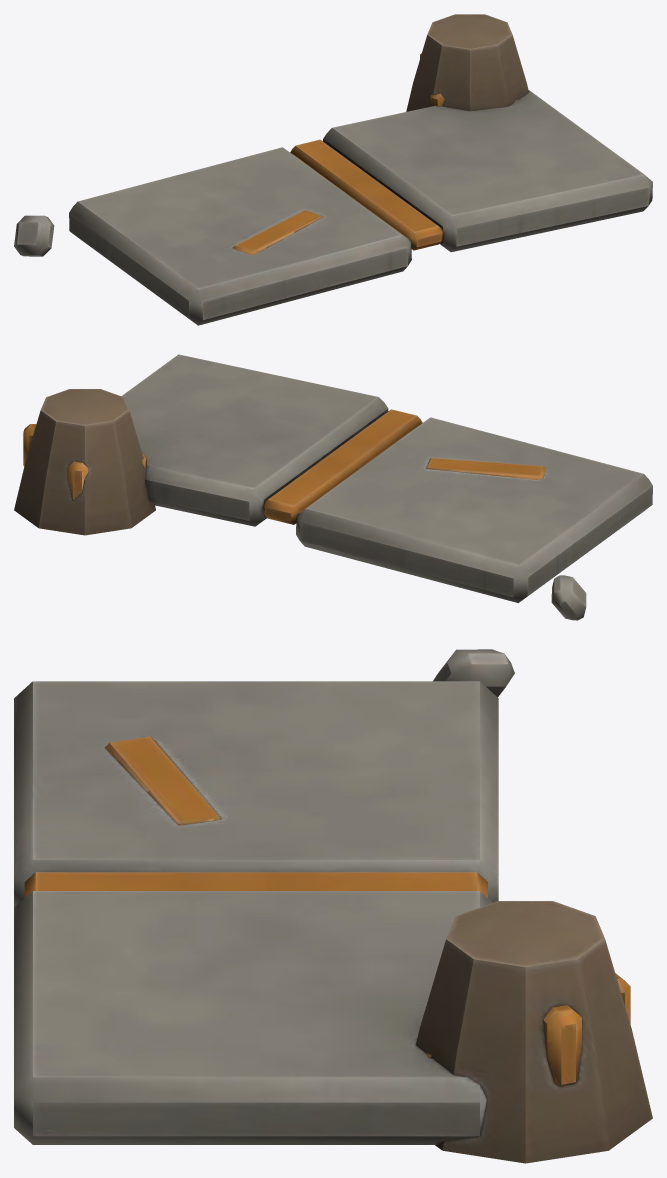
The model's file is camp_resinback.glb.
3 views of the same model, one above another, from view 1: azimuth 30°, elevation 25°; view 2: azimuth 150°, elevation 25°; view 3: azimuth 270°, elevation 25° (orthographic). The views are drawn at different scales.
Parts seen in each view (by area): view 1: camp_resinback_body; view 2: camp_resinback_body; view 3: camp_resinback_body.
Boxes of the visible parts, x1=… form: camp_resinback_body: x1=14, y1=14, x2=652, y2=325; camp_resinback_body: x1=14, y1=354, x2=652, y2=620; camp_resinback_body: x1=14, y1=649, x2=652, y2=1163.
Bounding box in the file's own units: 2.11 × 0.4135 × 1.19.
Materials: 1 (1 with a texture image).
